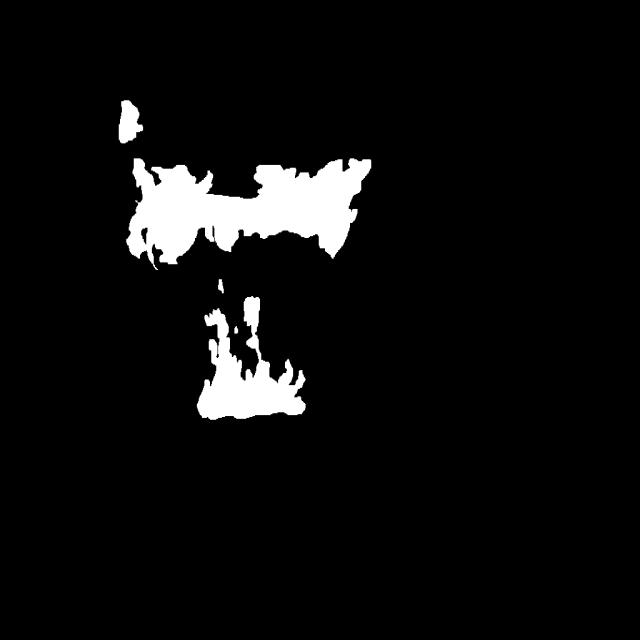fire: (84, 78, 395, 463)
